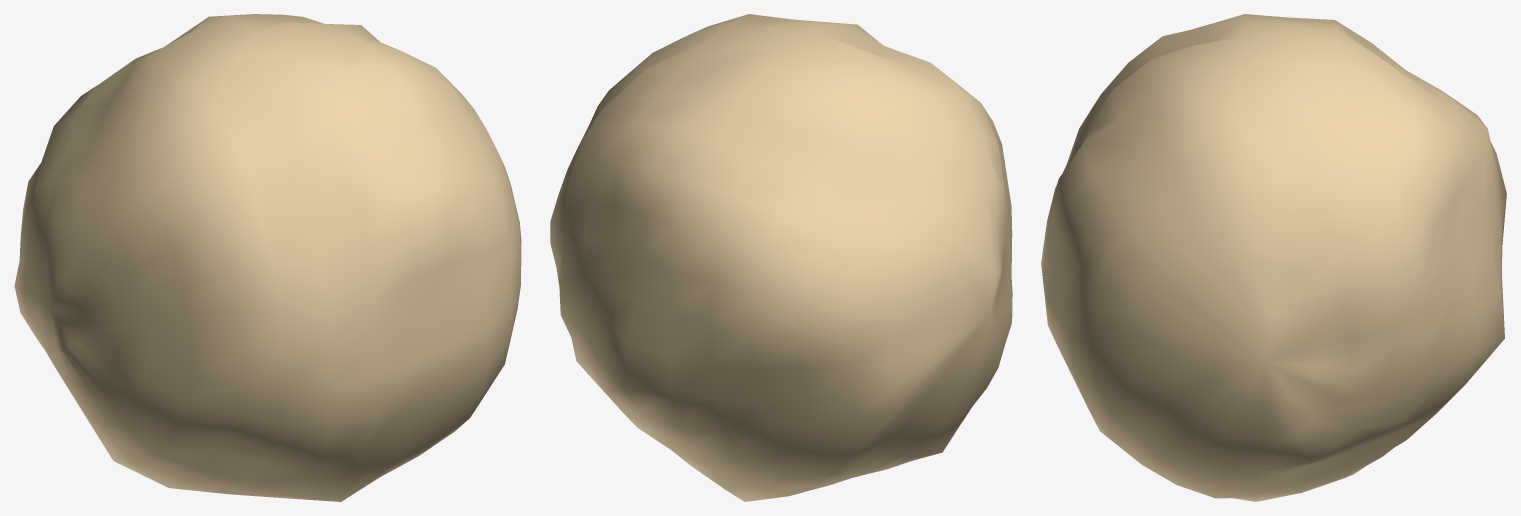
Rendered from iceCreamVanilla.glb.
The picture shows the model from 3 angles, left to right: view 1: azimuth 30°, elevation 25°; view 2: azimuth 150°, elevation 25°; view 3: azimuth 270°, elevation 25°; orthographic projection. The views are drawn at different scales.
Parts seen in each view (by area): view 1: IceCream.002; view 2: IceCream.002; view 3: IceCream.002.
Part boxes in pixels (left/top/right/bottom): IceCream.002: left=14, top=14, right=521, bottom=501; IceCream.002: left=550, top=14, right=1012, bottom=501; IceCream.002: left=1041, top=14, right=1506, bottom=501.
Bounding box in the file's own units: 1.1 × 1.11 × 1.05.
